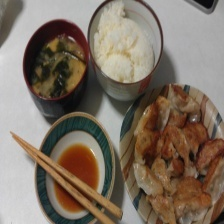rice: (92, 0, 158, 82)
